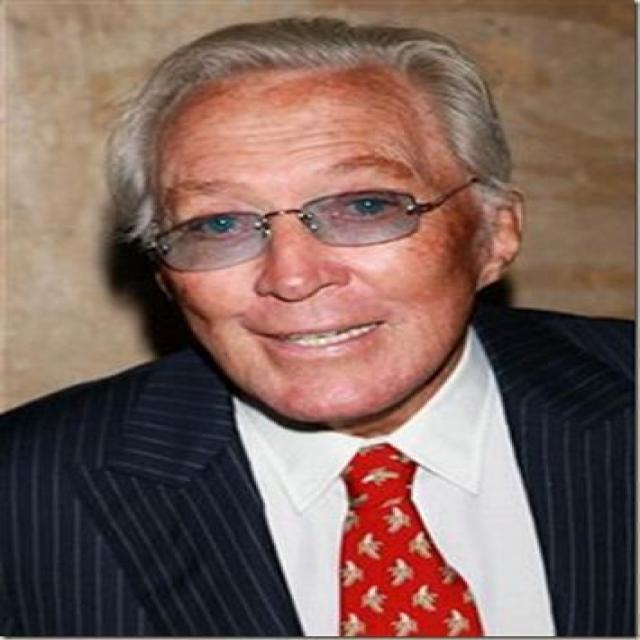live: (119, 80, 543, 442)
